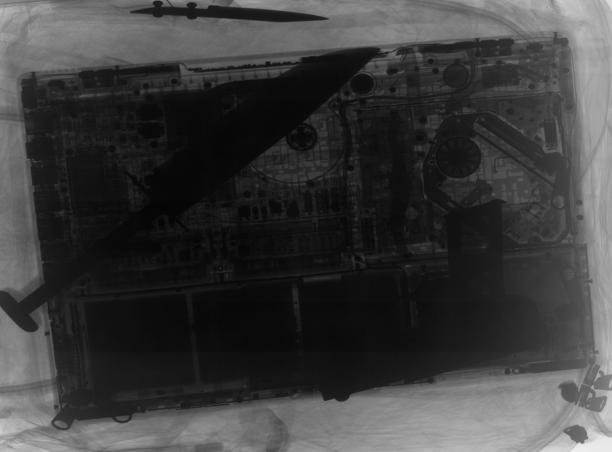Handgun: (314, 195, 546, 406)
Knife: (0, 43, 382, 336)
